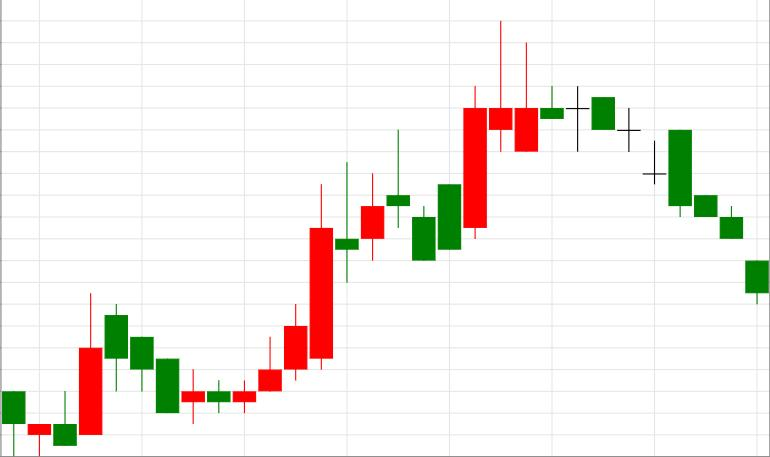evening_star_fall: (233, 131, 435, 414)
